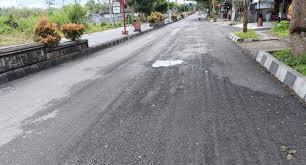Pothole: (146, 28, 216, 84)
